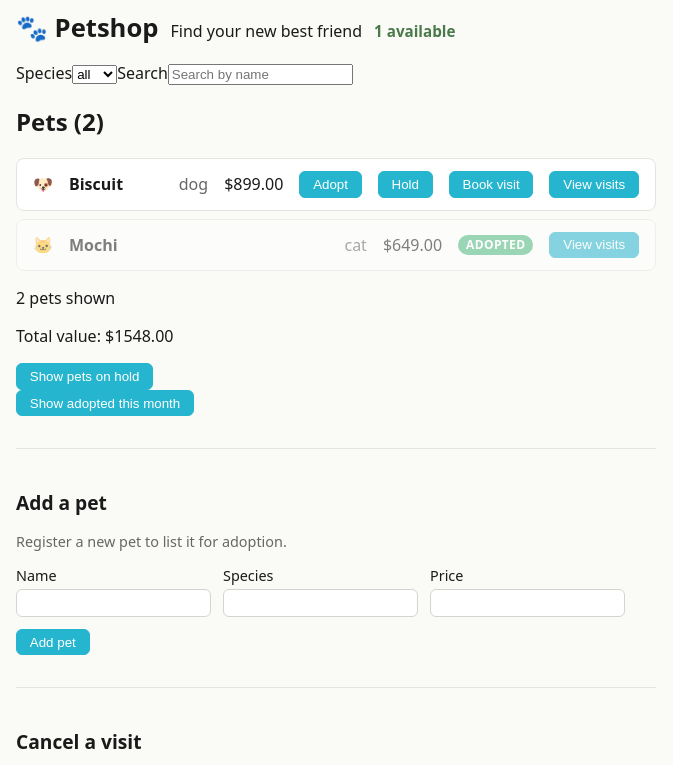
Scenario: App › shows an empty state when a reload leaves no pets of the selected species
This screenshot has width=673, height=765.
Expected: the text "Biscuit" is shown, left=69, top=173, right=123, bottom=195
Select "dog" in the dropdown labelled "Species": [95, 75] box left=72, top=65, right=117, bottom=84
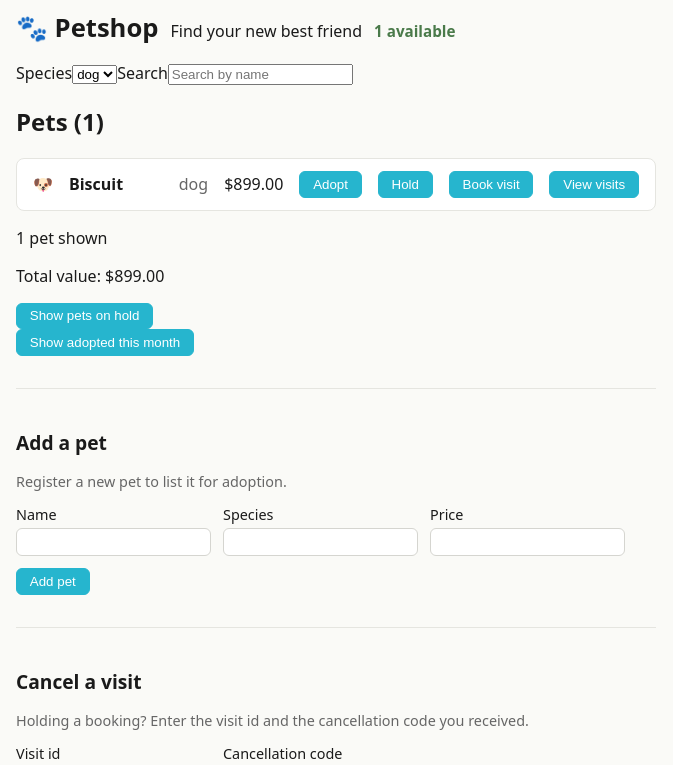
Expected: the text "Biscuit" is shown, left=69, top=173, right=123, bottom=195
Click the button "Adopt": [330, 184] box left=299, top=171, right=362, bottom=198
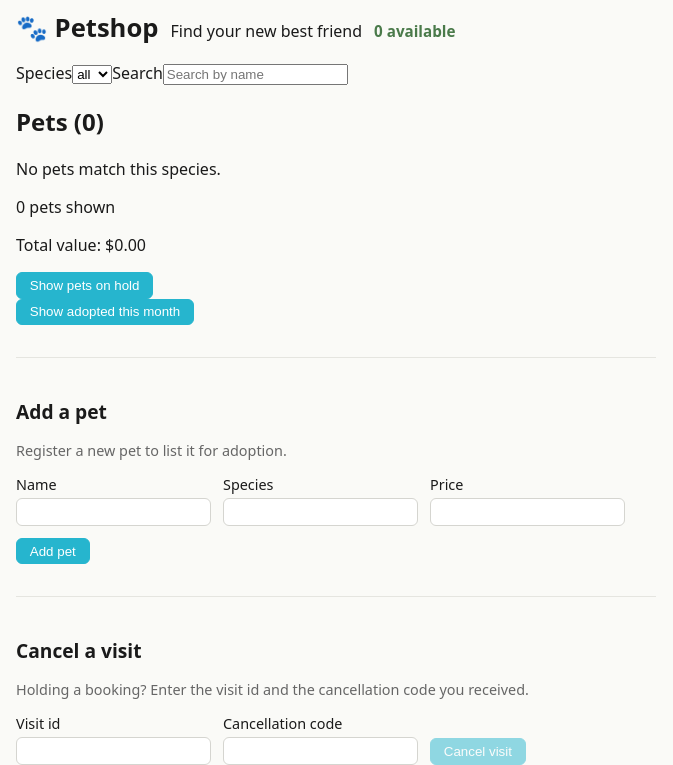
Result: the text "No pets match this species." is shown at left=16, top=158, right=221, bottom=180
Result: the text "Biscuit" is gone
